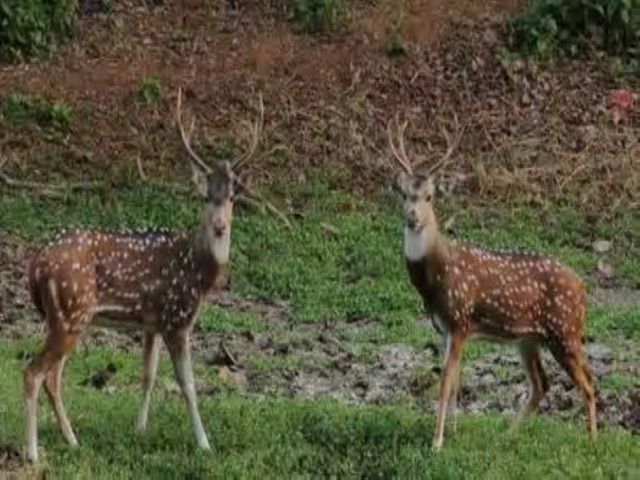deer: (19, 79, 267, 465), (378, 105, 613, 451)
